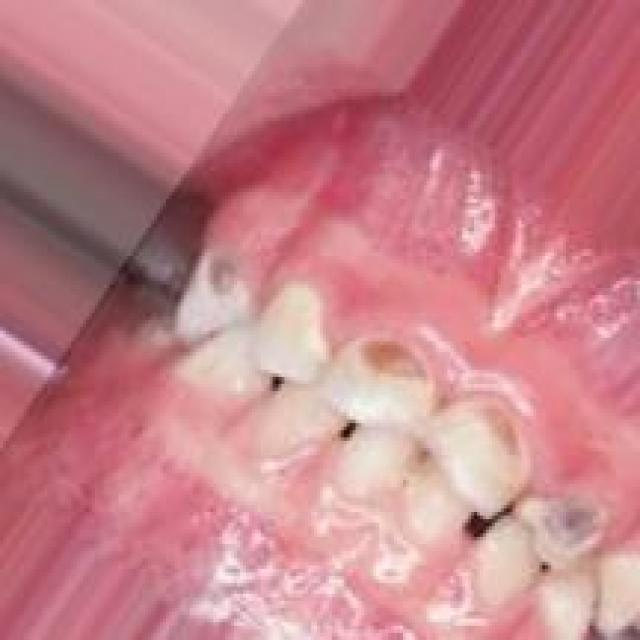caries: (353, 327, 443, 401), (536, 485, 614, 566), (472, 393, 534, 478), (200, 254, 249, 311)
